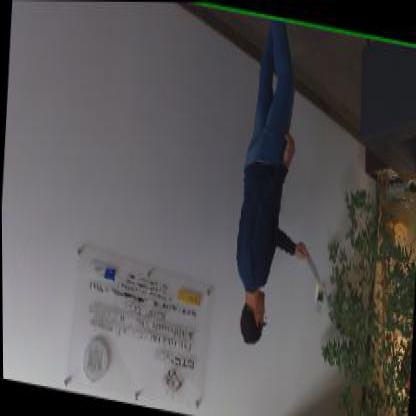knife: (297, 239, 322, 279)
